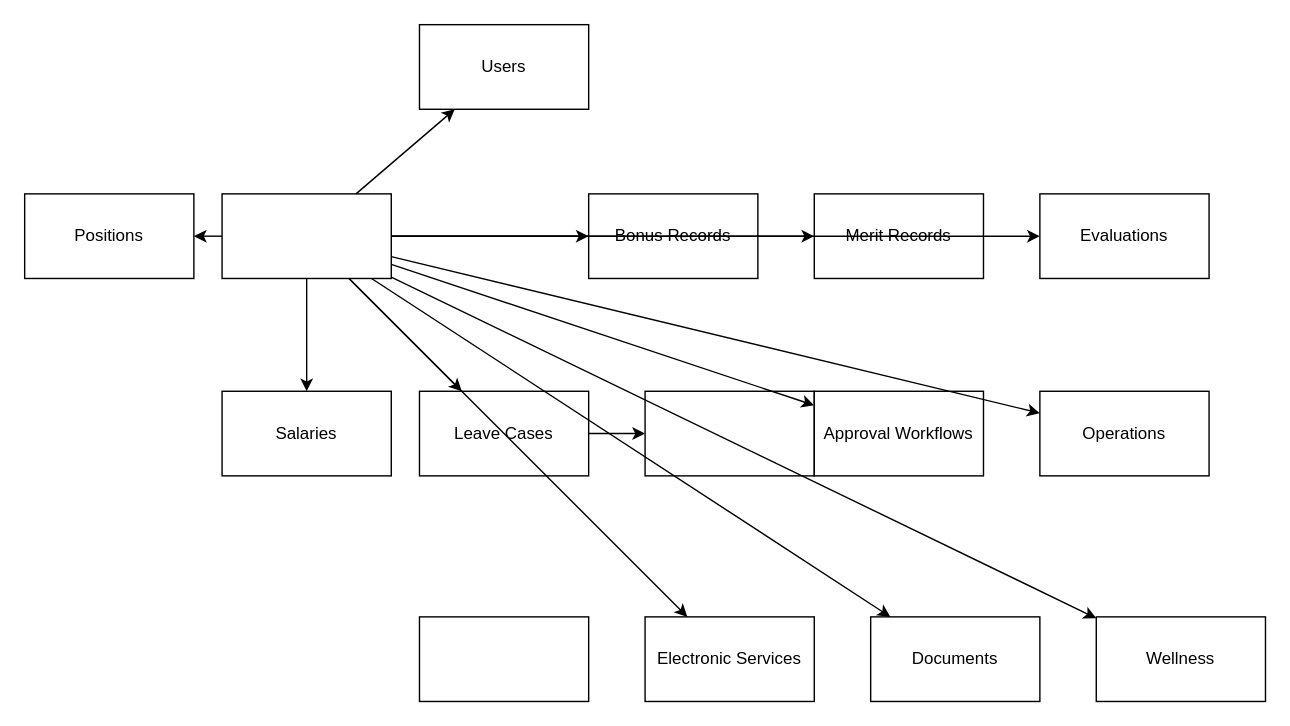
Some shapes in this 1290 by 726 pixel diagram are drawn without their labels. The box of each missing label's shape, as (x1, y1, x2, y2) in pixels:
Employees: (221, 192, 391, 278)
Leave Types: (644, 390, 814, 476)
Rules: (418, 615, 589, 701)
